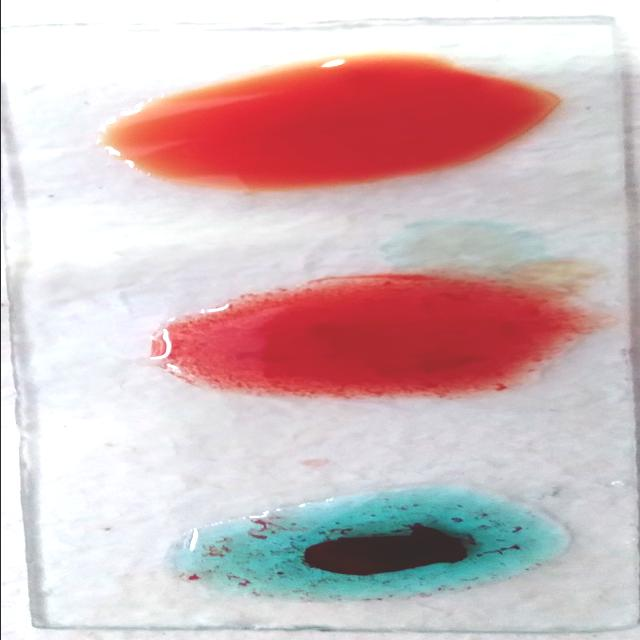A: (165, 494, 557, 595)
D: (146, 284, 610, 398)
